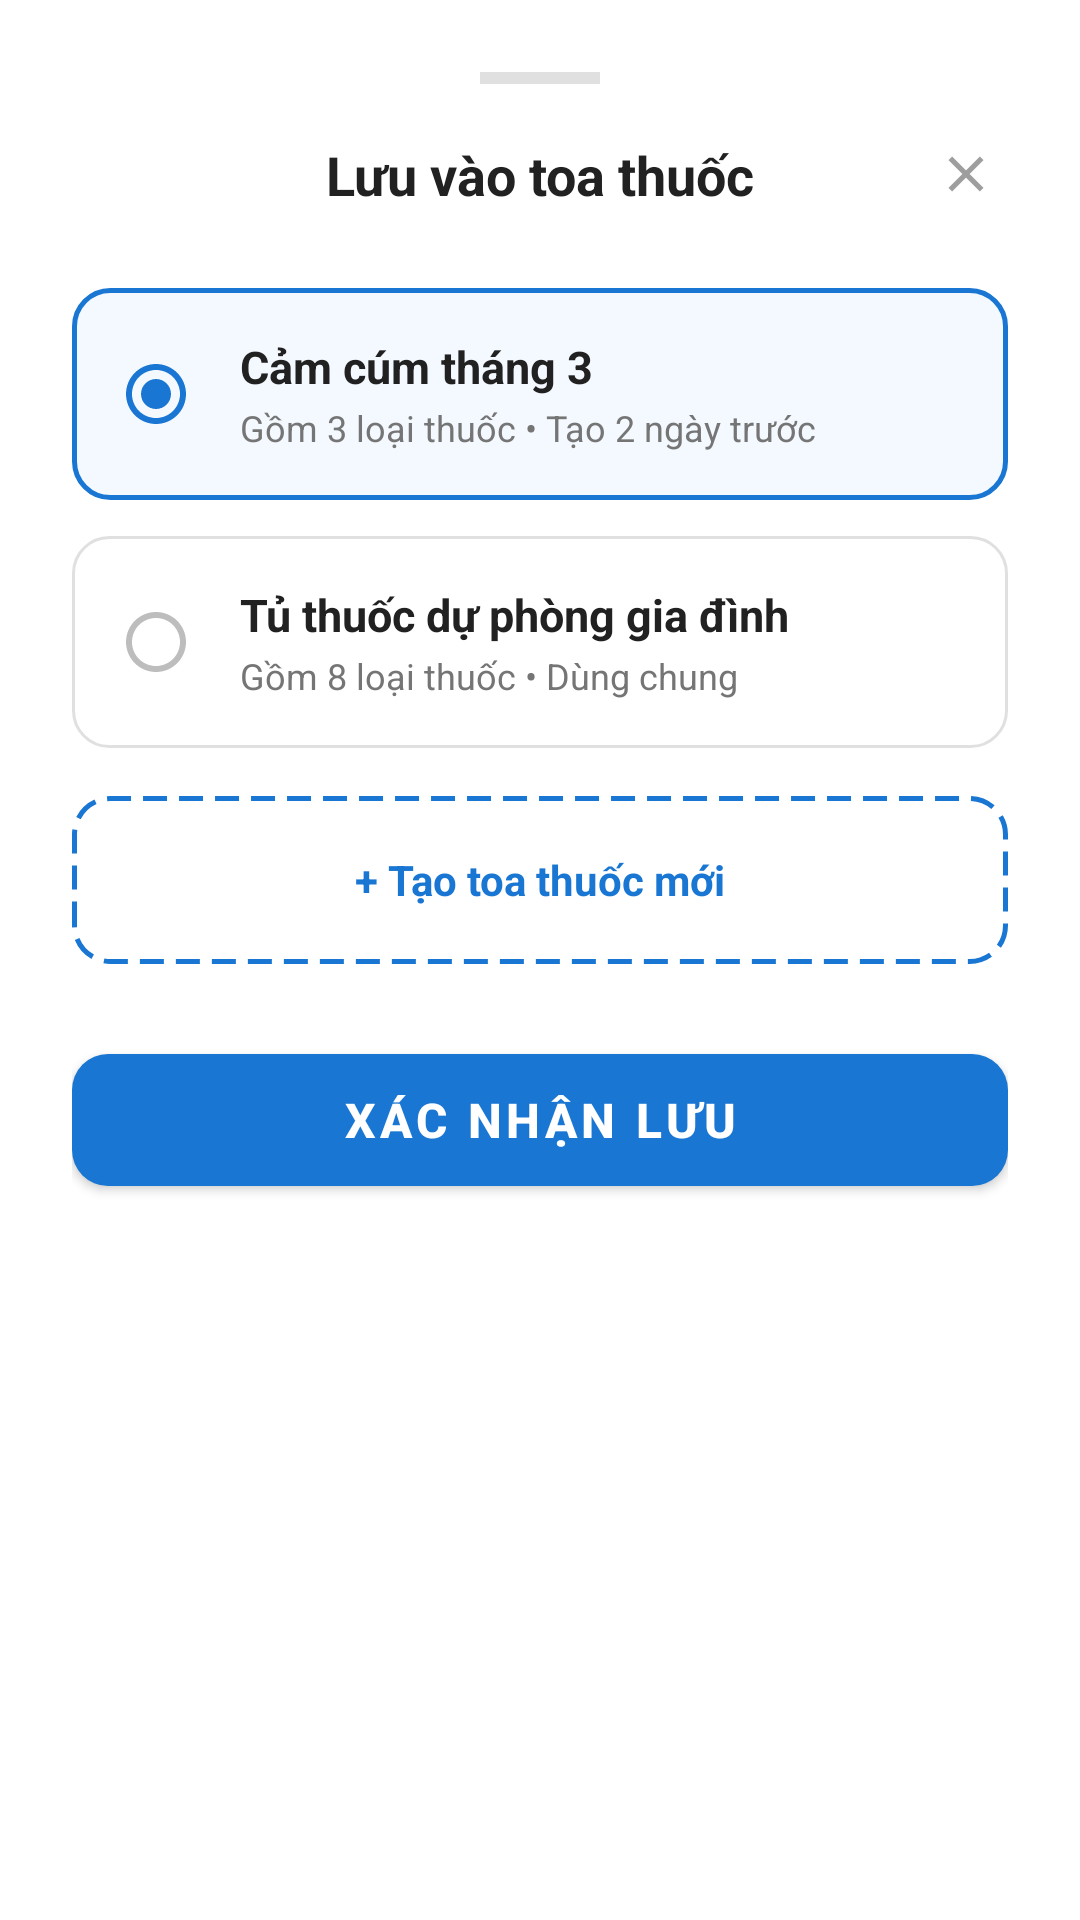

Named icons in this screenshot (1080×1920) and their centers, point (x, y):
close: point (966, 174)
radio checked: point (156, 394)
radio unchecked: point (156, 642)
